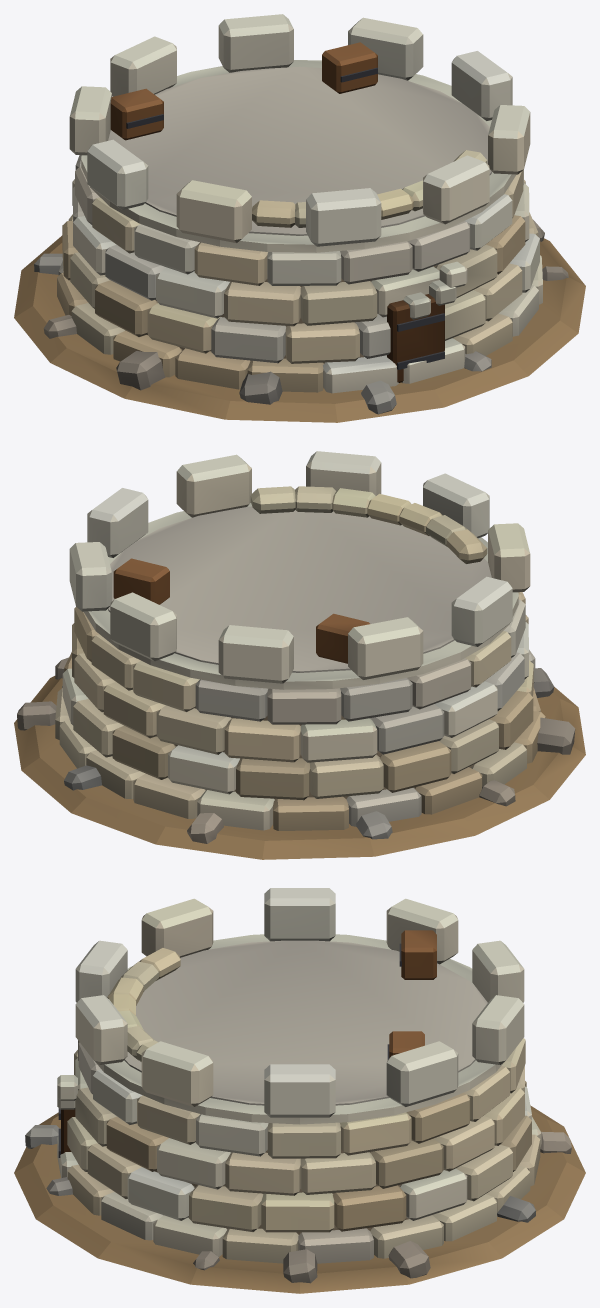
Rendered from musket_tower.glb.
The picture shows the model from 3 angles, top to bottom: view 1: azimuth 30°, elevation 25°; view 2: azimuth 150°, elevation 25°; view 3: azimuth 270°, elevation 25°; orthographic projection.
Parts seen in each view (by area): view 1: musket_tower; view 2: musket_tower; view 3: musket_tower.
Boxes of the visible parts, box(x1,y1,x2,y2) form: musket_tower: box(14, 14, 585, 422); musket_tower: box(14, 451, 585, 859); musket_tower: box(14, 888, 585, 1293).
Bounding box in the file's own units: 0.96 × 0.3657 × 0.96.
